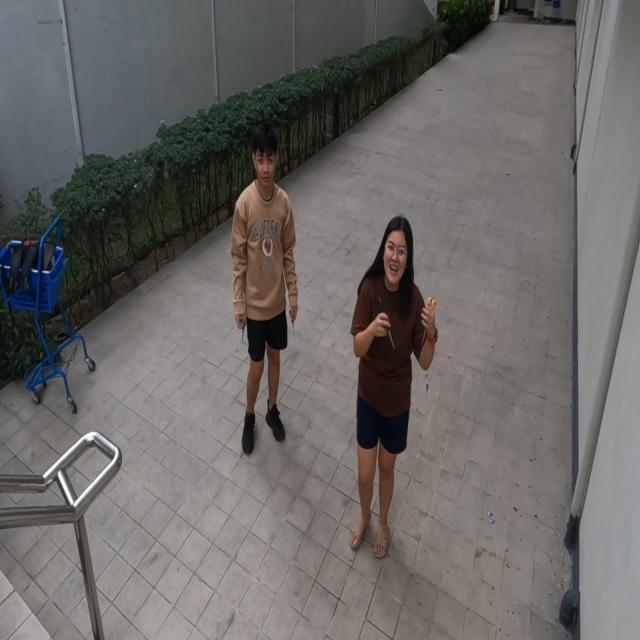scissor: (377, 298, 396, 352), (421, 296, 436, 348)
